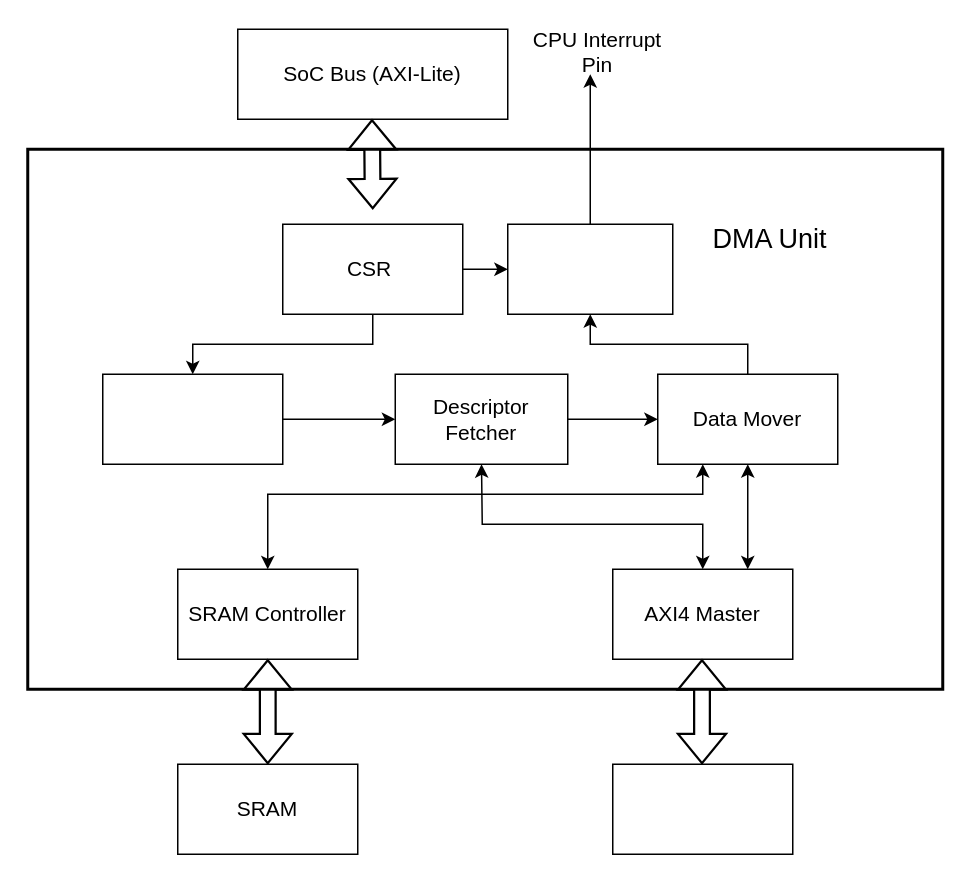
Image size: 969x881. Some labels were removed from this diagram. Here are the shapes that lost their labels. From the top down, the box of each, then its label:
(506, 223, 673, 314): IRQ
(101, 373, 283, 464): Ring Manager
(611, 763, 793, 854): System Memory
